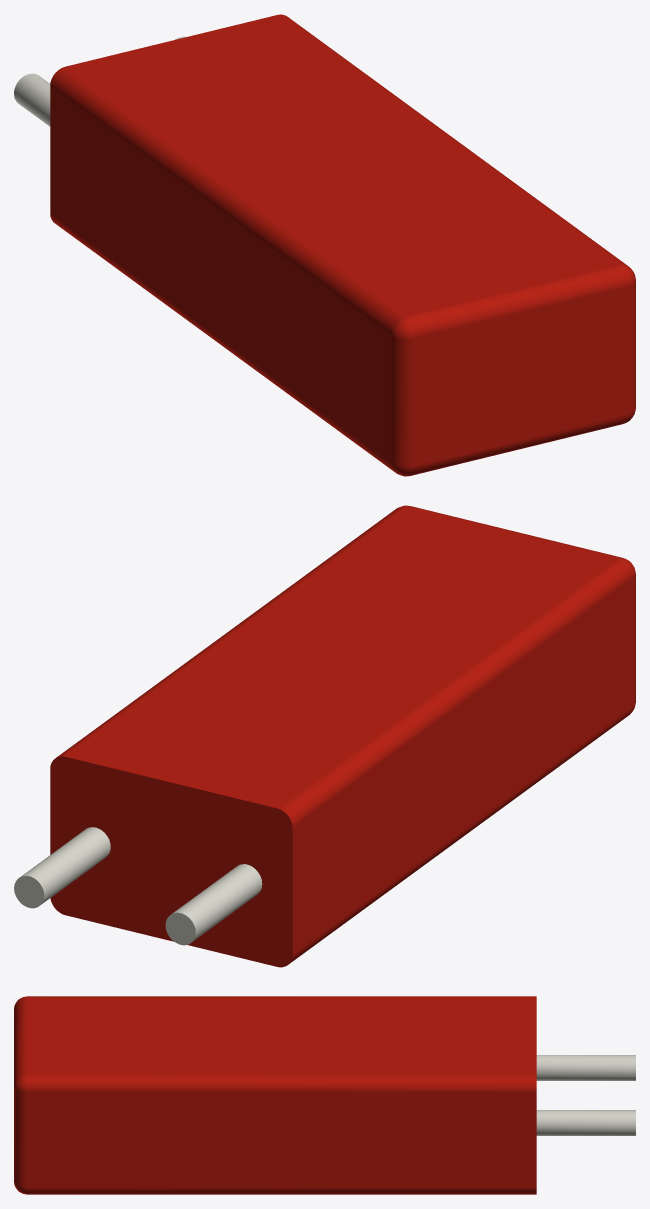
File: c-rect-l4.0-w2.5-p2.50.glb
3 renders of one model, top to bottom at view 1: azimuth 30°, elevation 25°; view 2: azimuth 150°, elevation 25°; view 3: azimuth 270°, elevation 25°, orthographic. The views are drawn at different scales.
Visible parts, largest first — view 1: RED-BODY, PIN-01; view 2: RED-BODY, PIN-01; view 3: RED-BODY, PIN-01.
Boxes of the visible parts, x1,y1,x2,y2 form: RED-BODY: (50, 14, 635, 476); PIN-01: (14, 36, 185, 126); RED-BODY: (50, 505, 635, 967); PIN-01: (14, 827, 262, 945); RED-BODY: (14, 996, 536, 1194); PIN-01: (536, 1055, 635, 1135).
Size of the model in its own units: 4 by 2.5 by 11.9.
